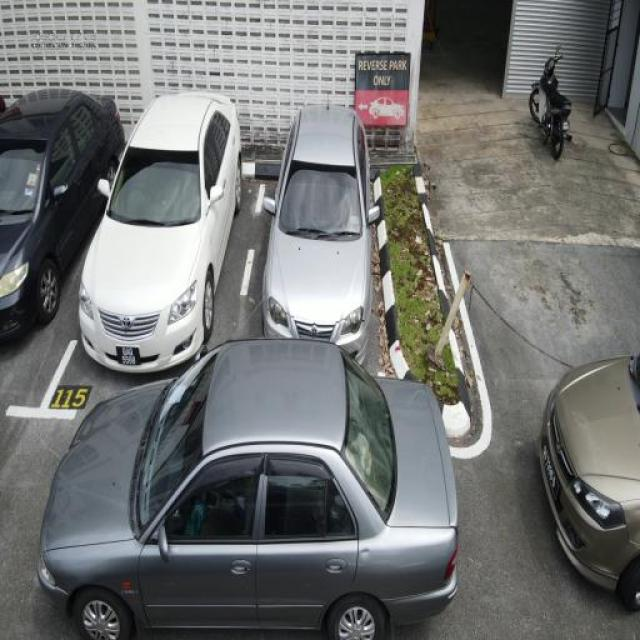Legalparking: (0, 38, 442, 382)
illegalparking: (34, 363, 640, 640), (514, 43, 597, 227)
